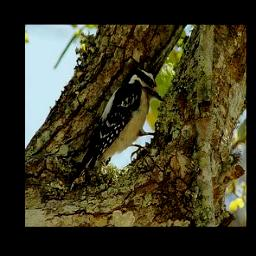Woodpecker: (67, 62, 166, 188)
